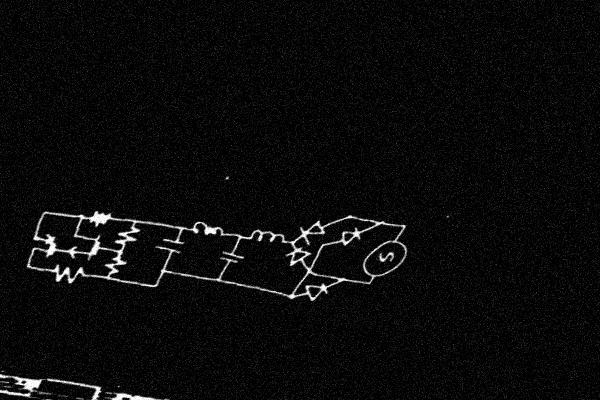capacitor: (147, 233, 192, 260), (215, 247, 250, 267)
diode: (289, 214, 335, 247), (296, 277, 337, 305), (277, 244, 318, 270), (334, 223, 370, 249)
inductor: (240, 227, 295, 248), (184, 218, 236, 239)
resistor: (39, 261, 96, 287), (106, 222, 148, 251), (77, 207, 123, 232), (96, 252, 134, 279)
signal: (352, 232, 419, 283)
